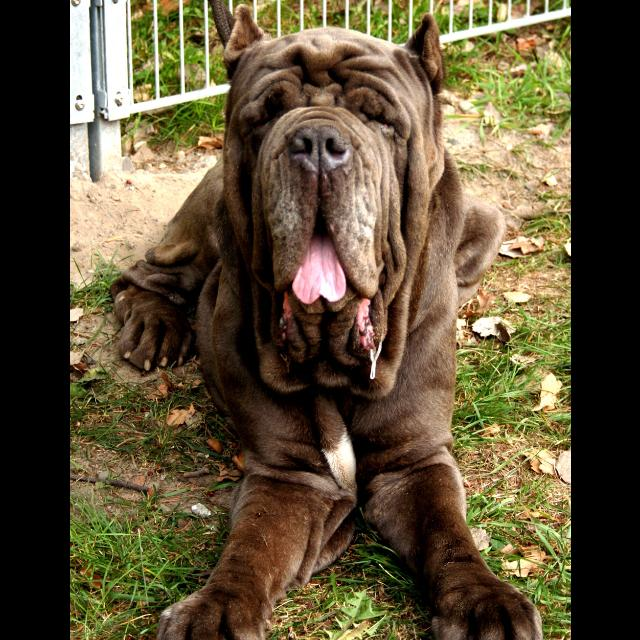mastino_napoletano: (110, 3, 544, 640)
